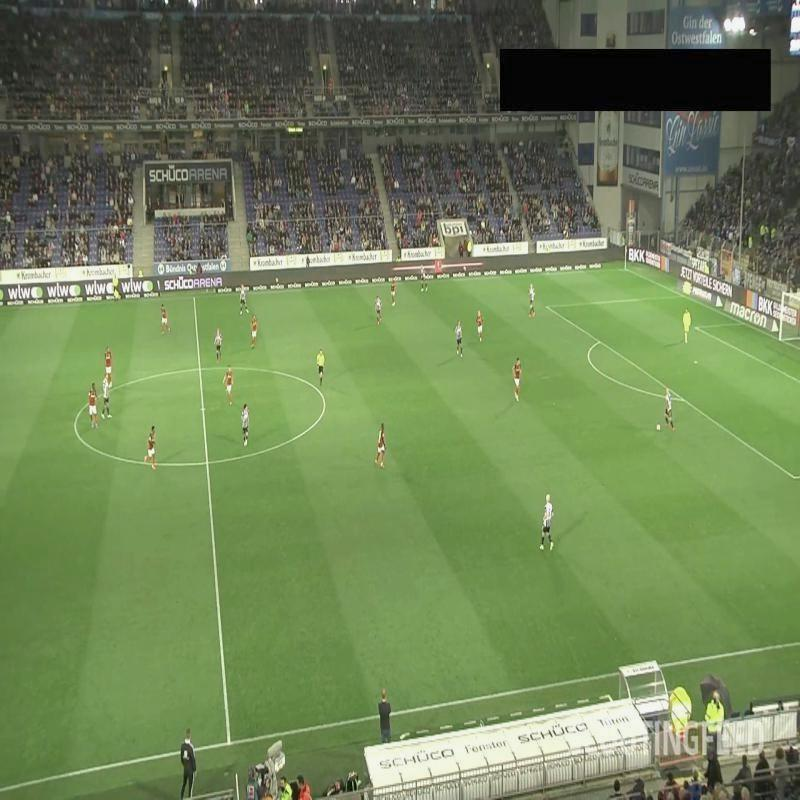1: (618, 261, 632, 275)
10: (592, 332, 606, 346)
11: (676, 391, 690, 405)
12: (789, 472, 800, 486)
13: (188, 290, 202, 304)
14: (193, 361, 207, 375)
15: (200, 454, 214, 468)
16: (218, 732, 236, 754)
2: (677, 287, 691, 301)
3: (735, 314, 749, 328)
7: (689, 320, 703, 334)
9: (540, 298, 554, 312)
c: (66, 417, 84, 434), (318, 396, 332, 410)
